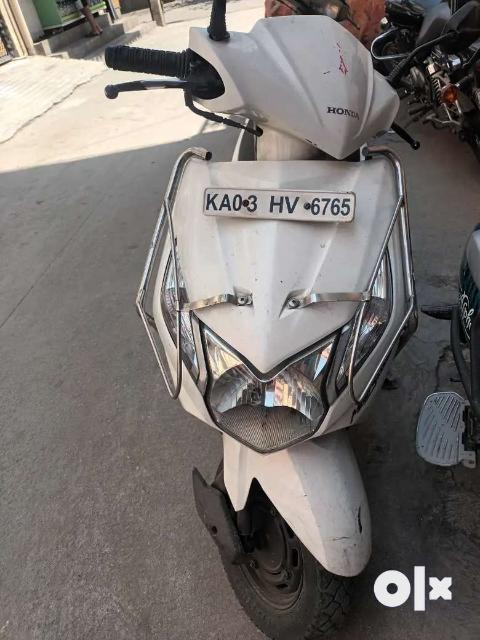Indian_Number_Plate: (203, 188, 356, 221)
